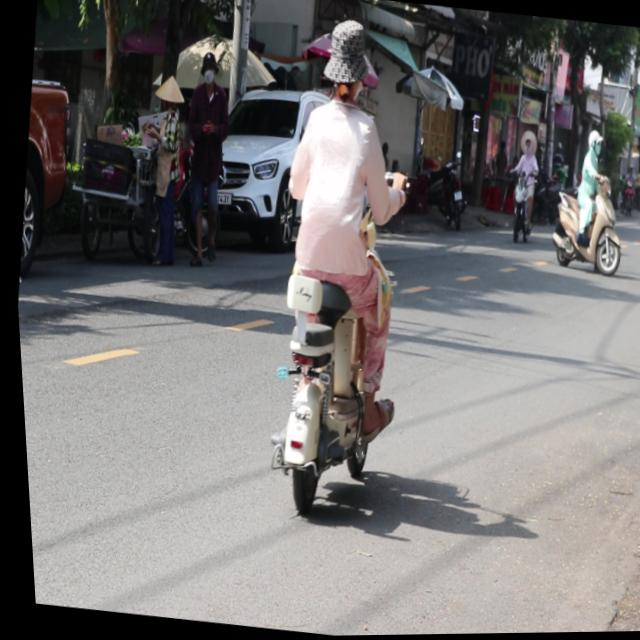helmet: (582, 129, 601, 155)
licenseplate: (226, 4, 444, 534), (538, 121, 633, 279)
motorcyclist: (314, 15, 376, 108)
